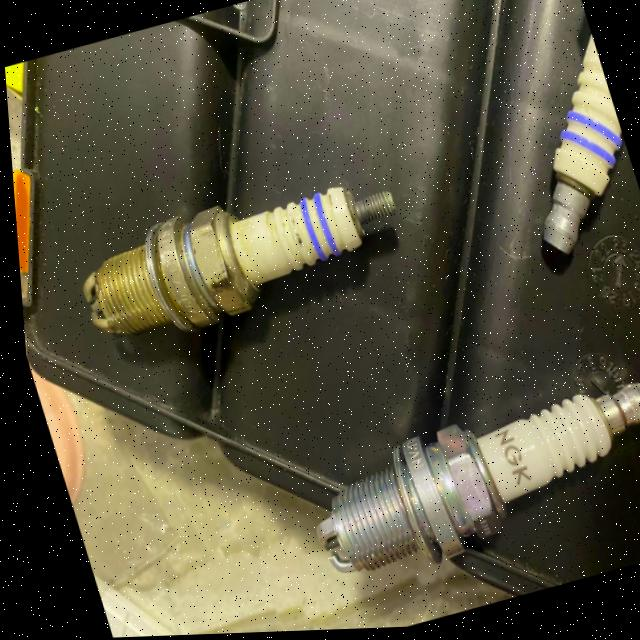spark-plug: (228, 318, 640, 625), (45, 145, 425, 366)
